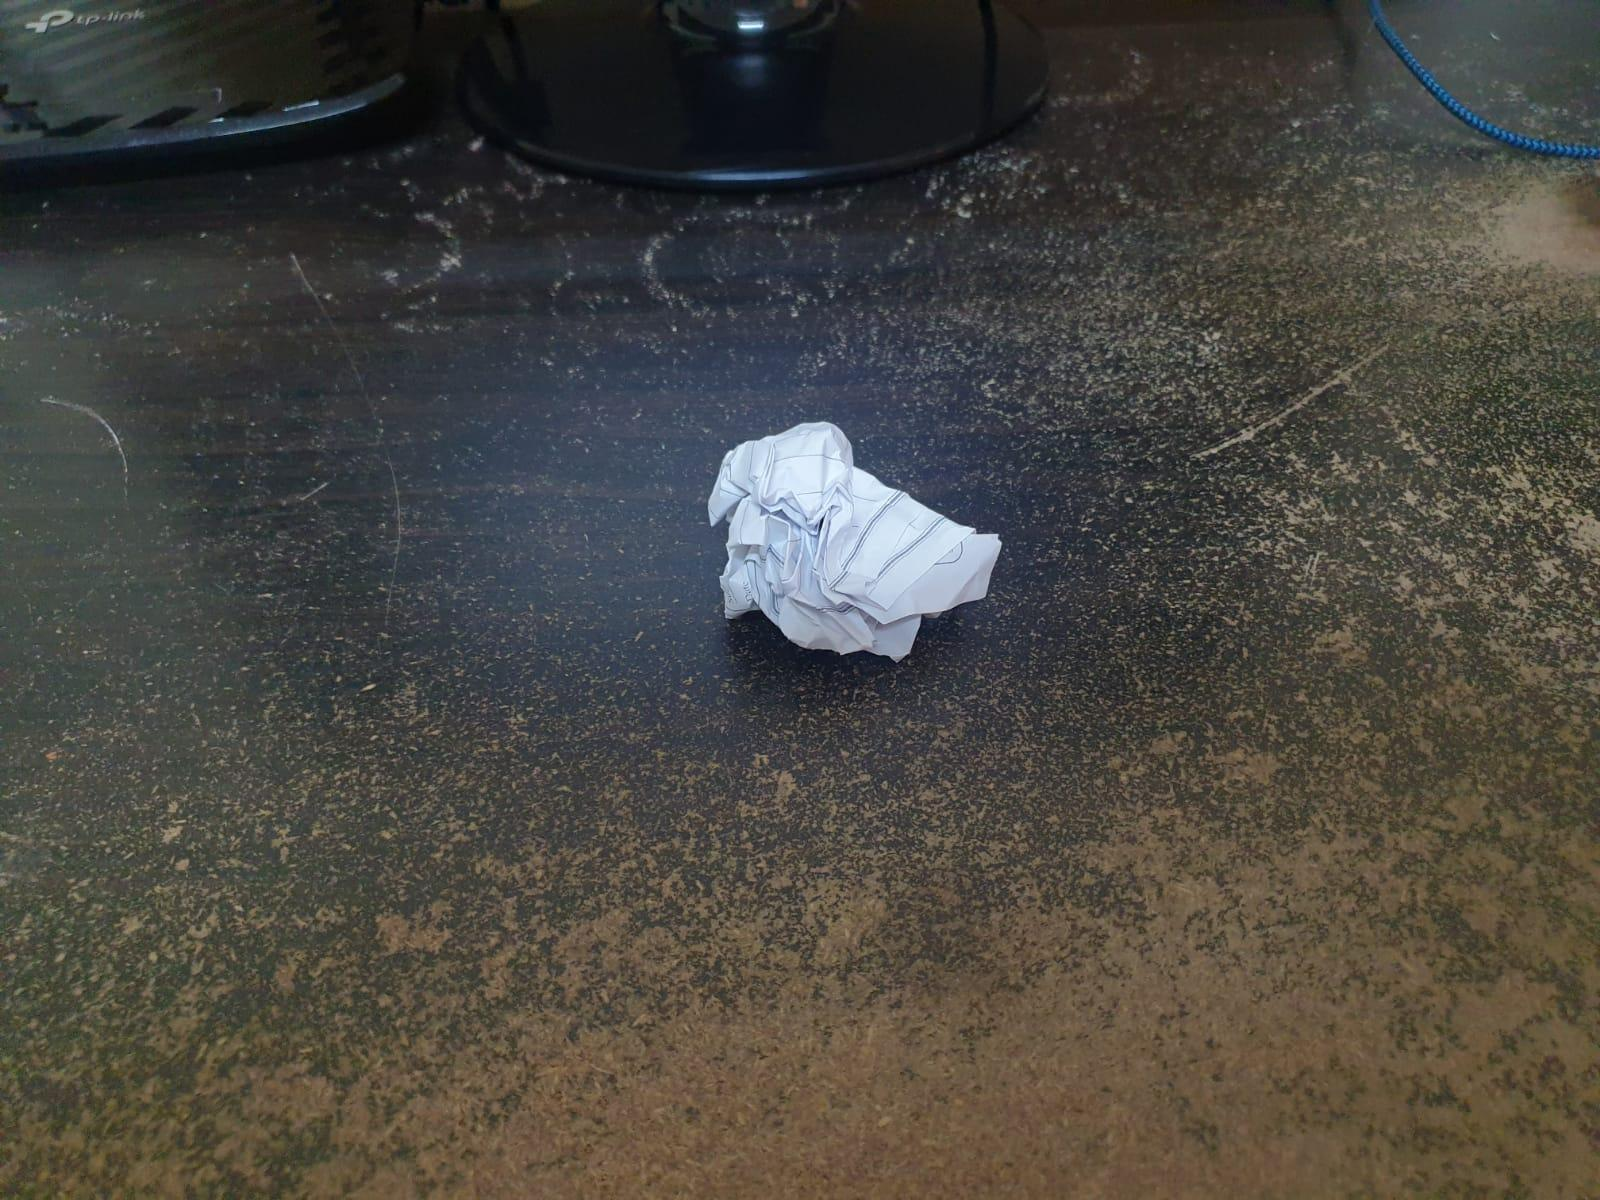Paper: (706, 421, 1001, 675)
